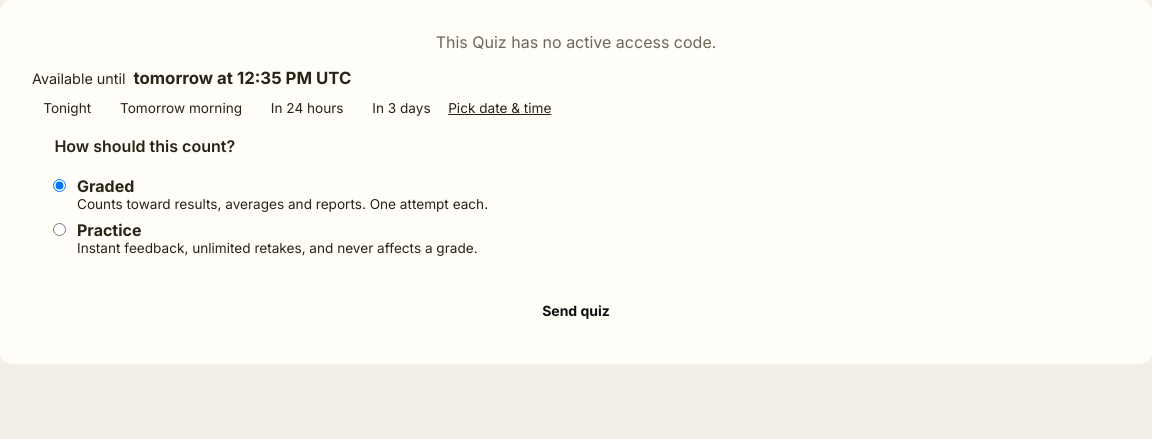
AccessCodesTab PIN gate › any other activation failure is shown as before, with no PIN blocker
The width and height of the screenshot is (1152, 439).
Check: the text "This Quiz has no active access code." is shown, box [436,32,716,52]
Click the button "Send quiz" at (576, 310), box [518,288,634,332]
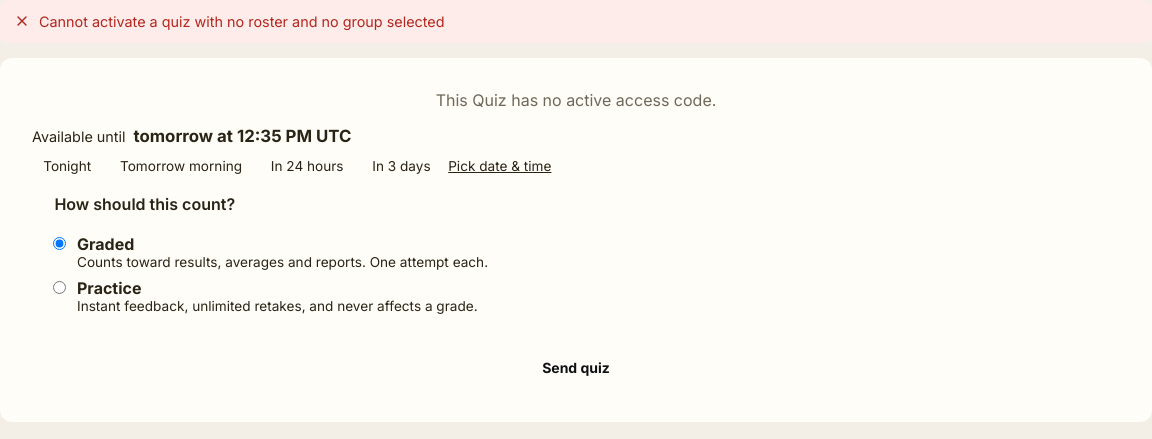
Check: the text "Cannot activate a quiz with no roster and no group selected" is shown, box [39,11,444,32]
